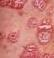plaque psoriasis: (27, 16, 54, 44), (18, 43, 40, 58), (0, 0, 27, 9), (7, 30, 21, 45), (34, 0, 52, 11), (23, 53, 54, 58), (0, 30, 4, 49)
